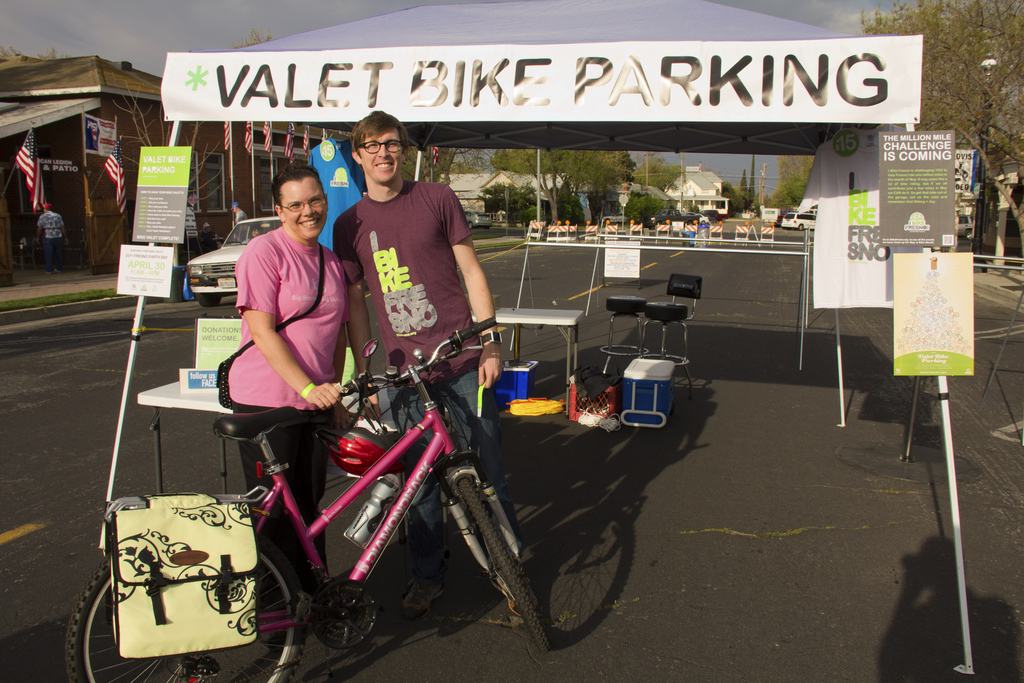Bike_away: (69, 320, 557, 682)
